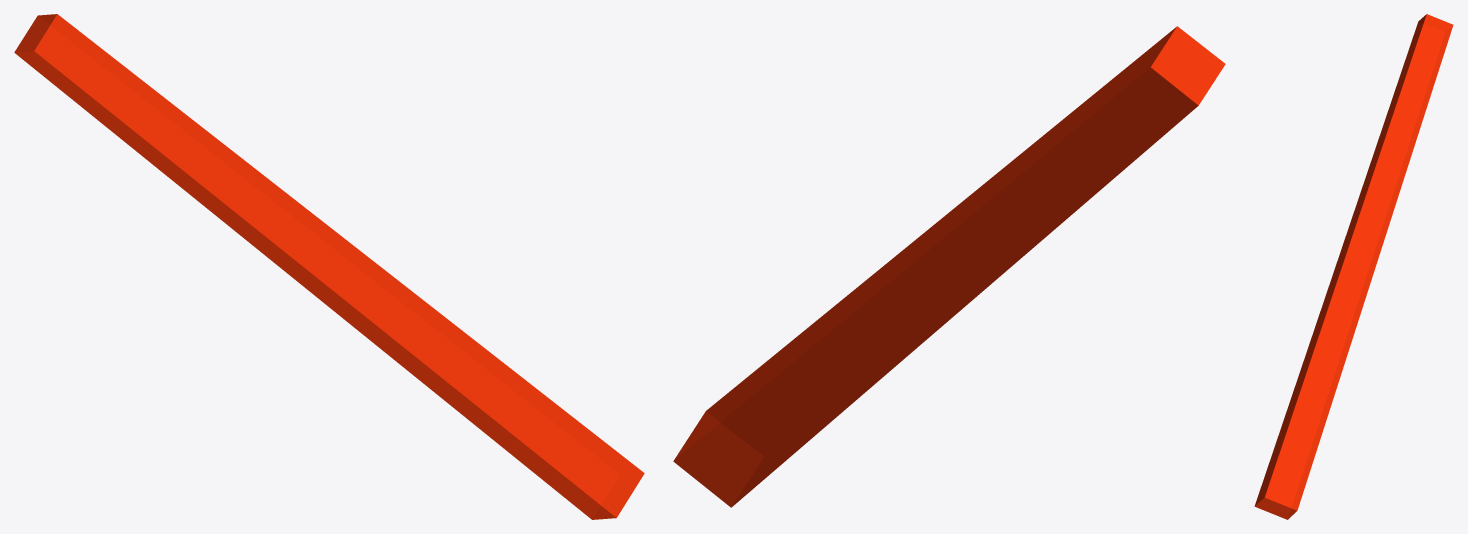
The model's file is Event_421556567_EBrechit_23.fbx.
3 views of the same model, side by side, from view 1: azimuth 30°, elevation 25°; view 2: azimuth 150°, elevation 25°; view 3: azimuth 270°, elevation 25° (orthographic). The views are drawn at different scales.
Visible parts, largest first — view 1: Model; view 2: Model; view 3: Model.
Part boxes in pixels (<box>): Model: <box>14,14,644,519</box>; Model: <box>673,26,1225,507</box>; Model: <box>1254,14,1453,519</box>.
Size of the model in its own units: 0.7356 by 0.7581 by 0.3765.
